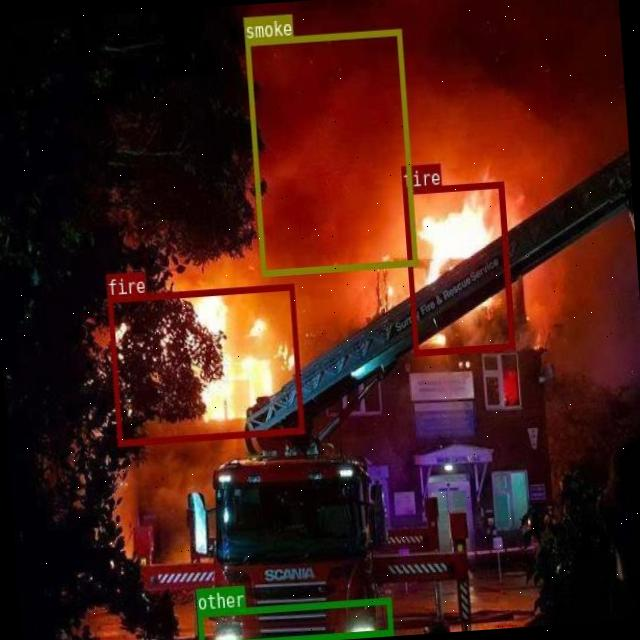fire: (107, 282, 303, 446), (402, 180, 513, 355)
smoke: (244, 29, 416, 276)
